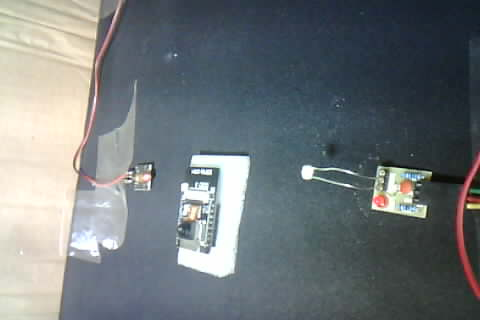esp32: (159, 155, 227, 268)
